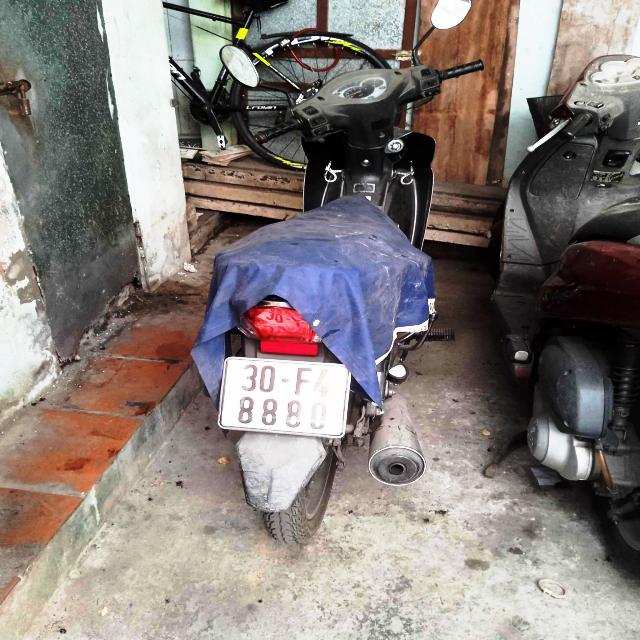license_plate: (210, 353, 362, 445)
